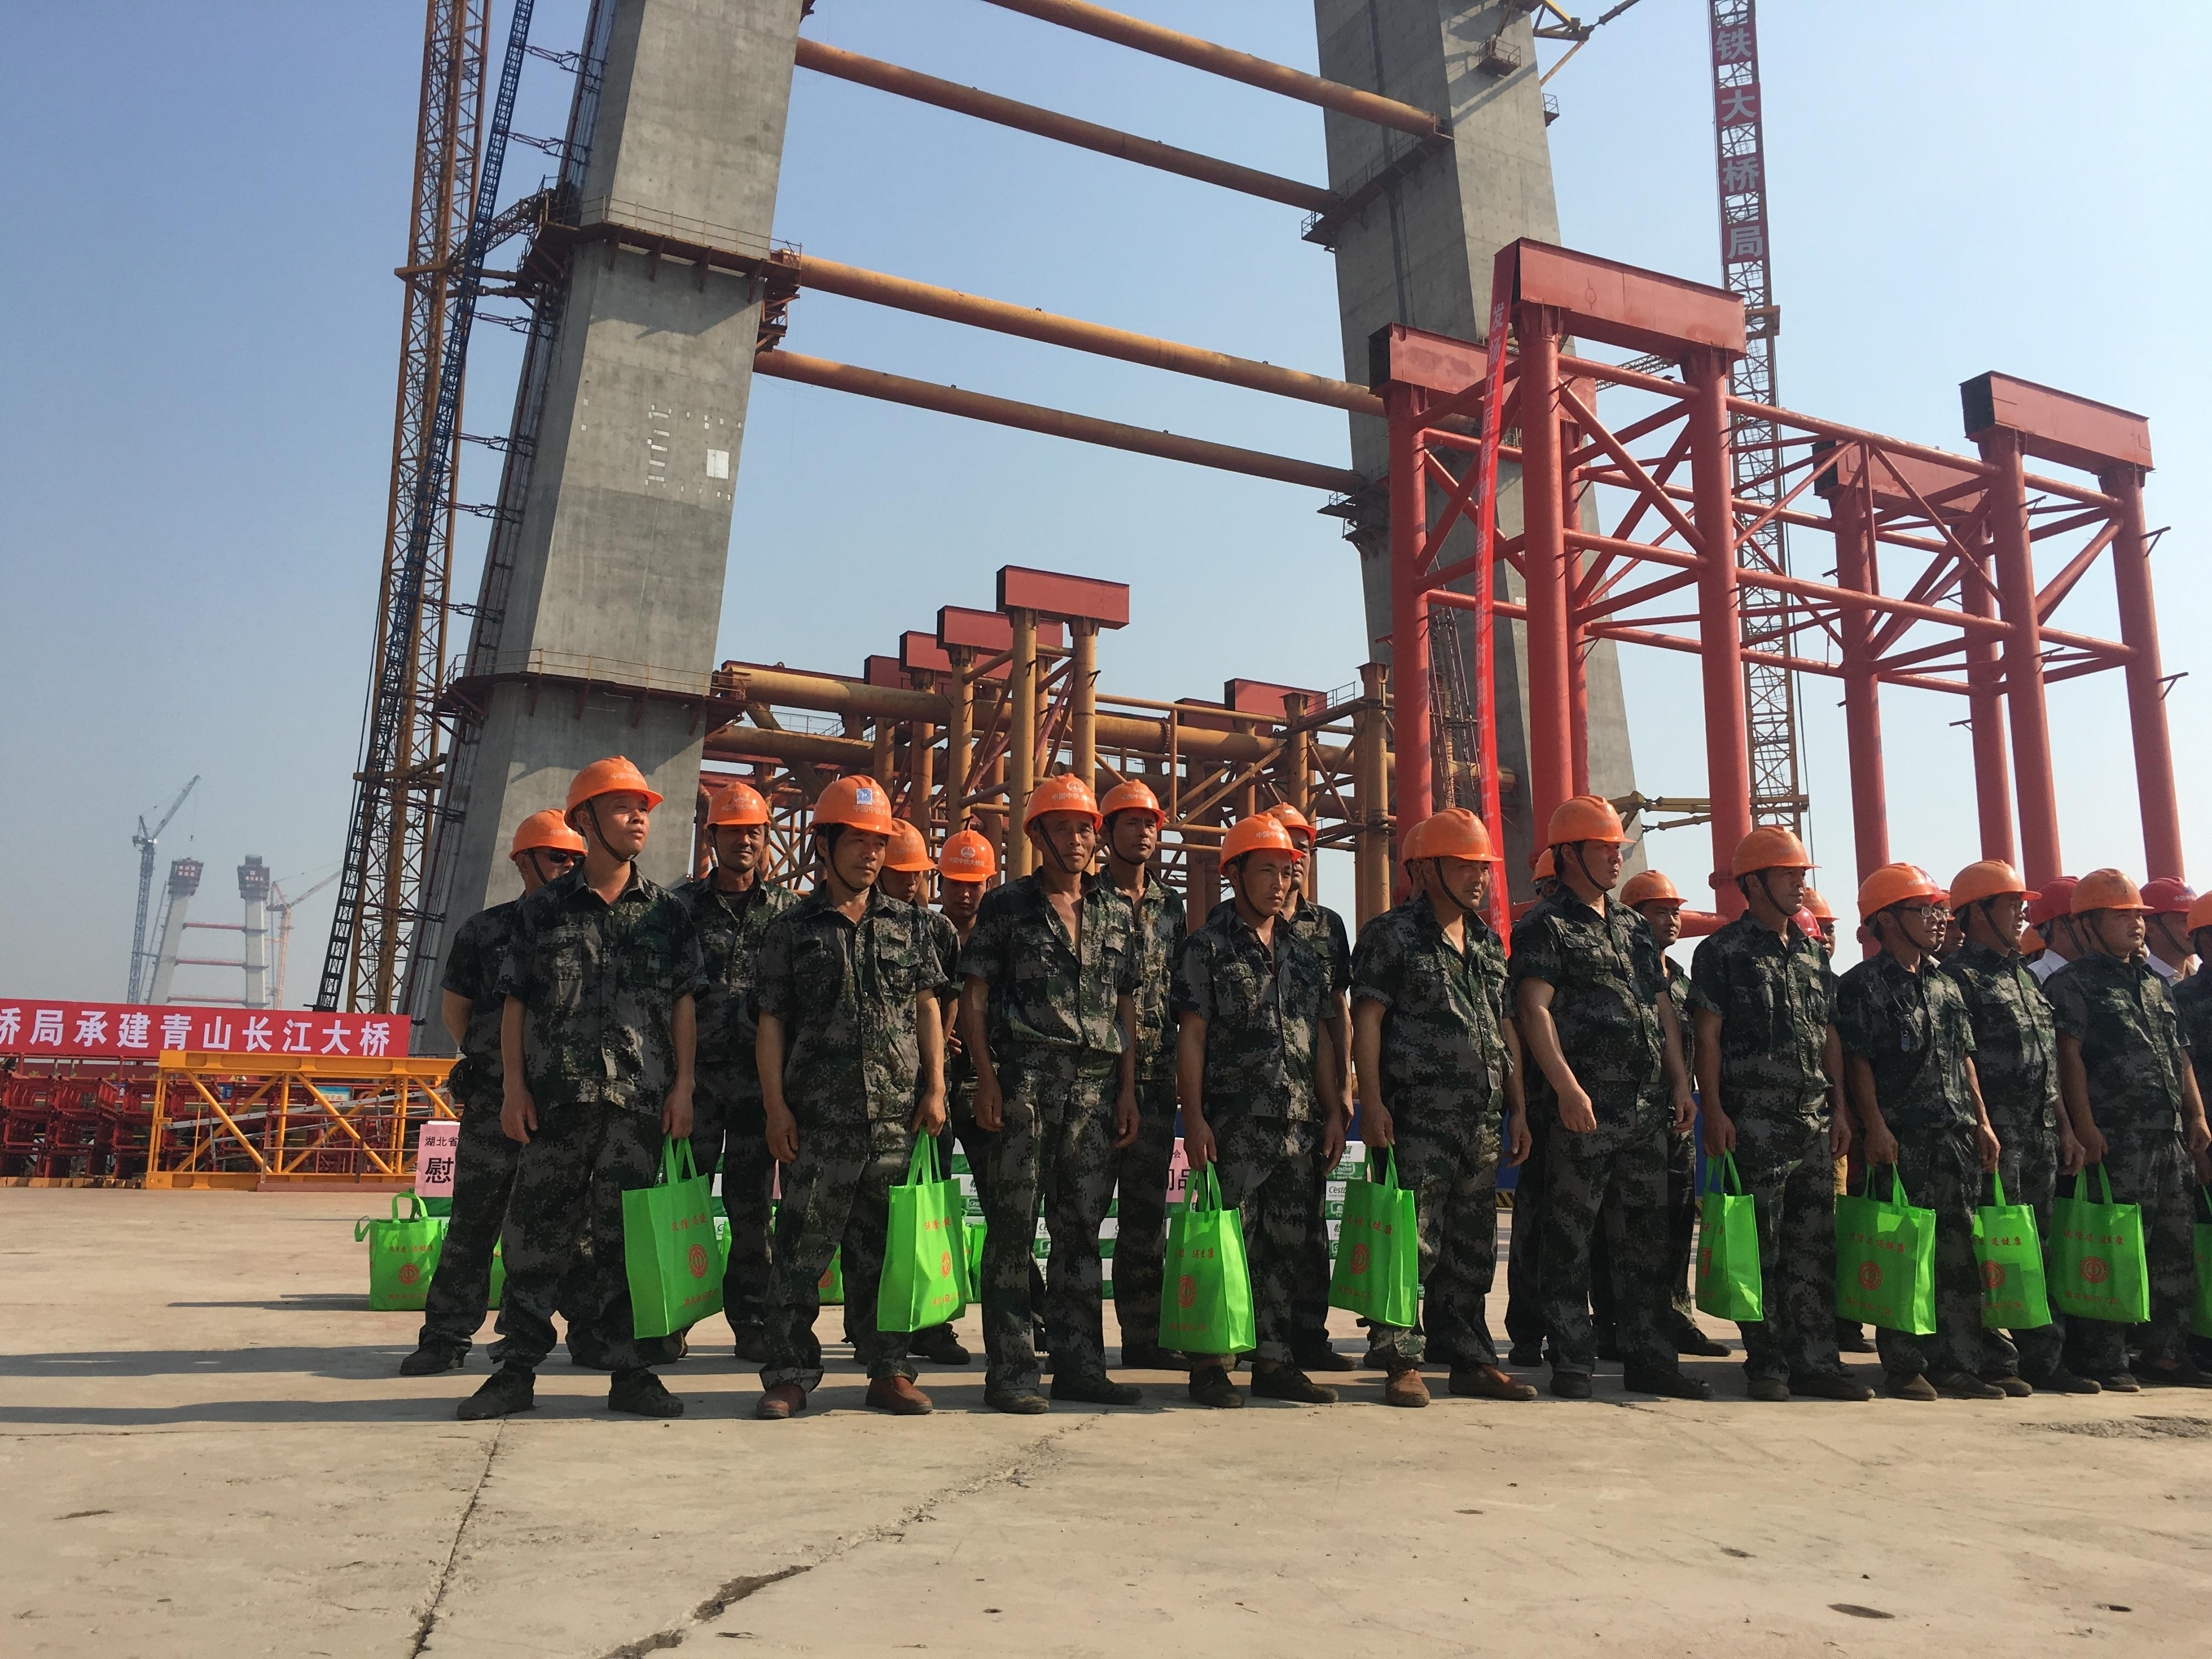helmet: (1014, 758, 1101, 838), (810, 777, 895, 842), (1726, 833, 1811, 894), (1865, 864, 1944, 931), (573, 756, 658, 816), (1548, 796, 1627, 859), (1958, 861, 2038, 922), (1409, 816, 1500, 868), (1228, 816, 1306, 875), (1104, 767, 1172, 830), (2074, 868, 2148, 924), (509, 816, 587, 866), (935, 833, 998, 890), (712, 777, 777, 830), (1245, 805, 1313, 852), (2139, 868, 2191, 929), (878, 830, 934, 880), (2177, 877, 2212, 946)
